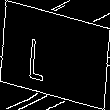L_N: (45, 28, 65, 82)
